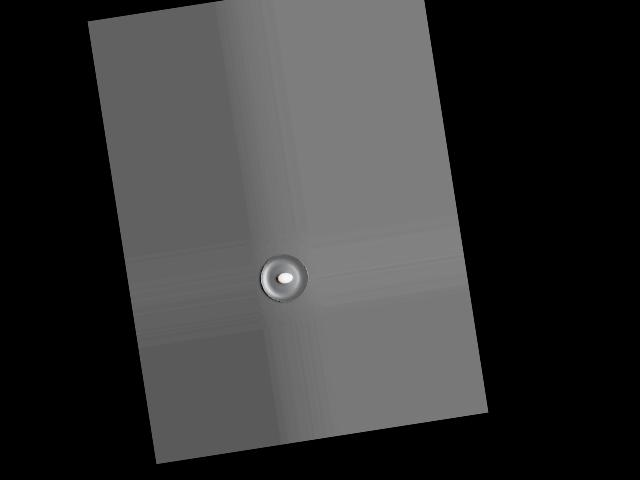egg: (276, 271, 293, 284)
